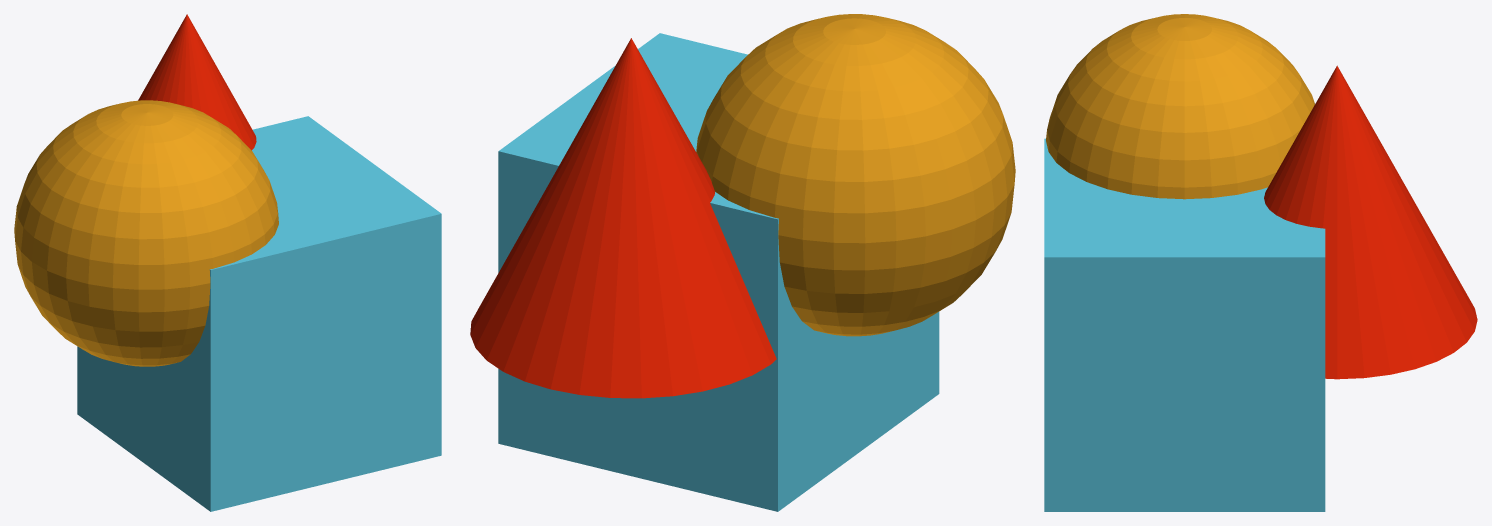
3 views of the same model, side by side, from view 1: azimuth 30°, elevation 25°; view 2: azimuth 150°, elevation 25°; view 3: azimuth 270°, elevation 25° (orthographic). The views are drawn at different scales.
Parts seen in each view (by area): view 1: Cube; view 2: Cube; view 3: Cube.
Boxes of the visible parts, left/top/right/bottom form: Cube: left=14, top=14, right=441, bottom=511; Cube: left=470, top=14, right=1015, bottom=511; Cube: left=1044, top=14, right=1477, bottom=511.
Size of the model in its own units: 297 by 304 by 309.
